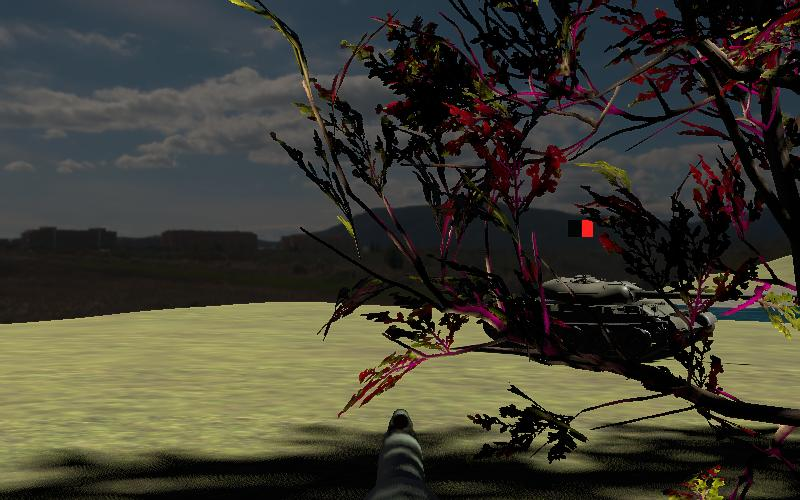Tank: (501, 265, 723, 369)
